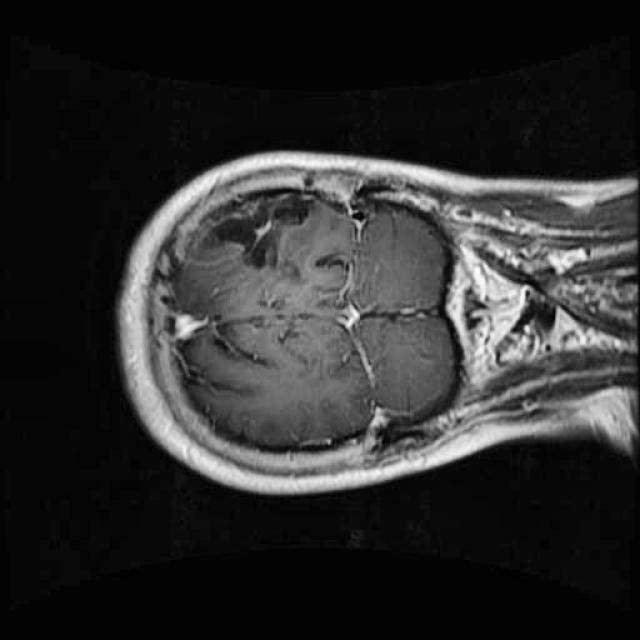Tumor: (193, 182, 334, 279)
